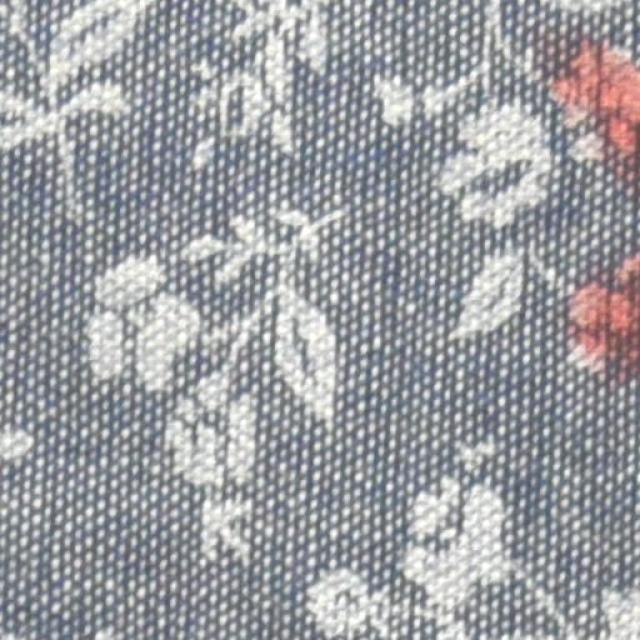Stain: (554, 24, 635, 162), (565, 251, 639, 397)
